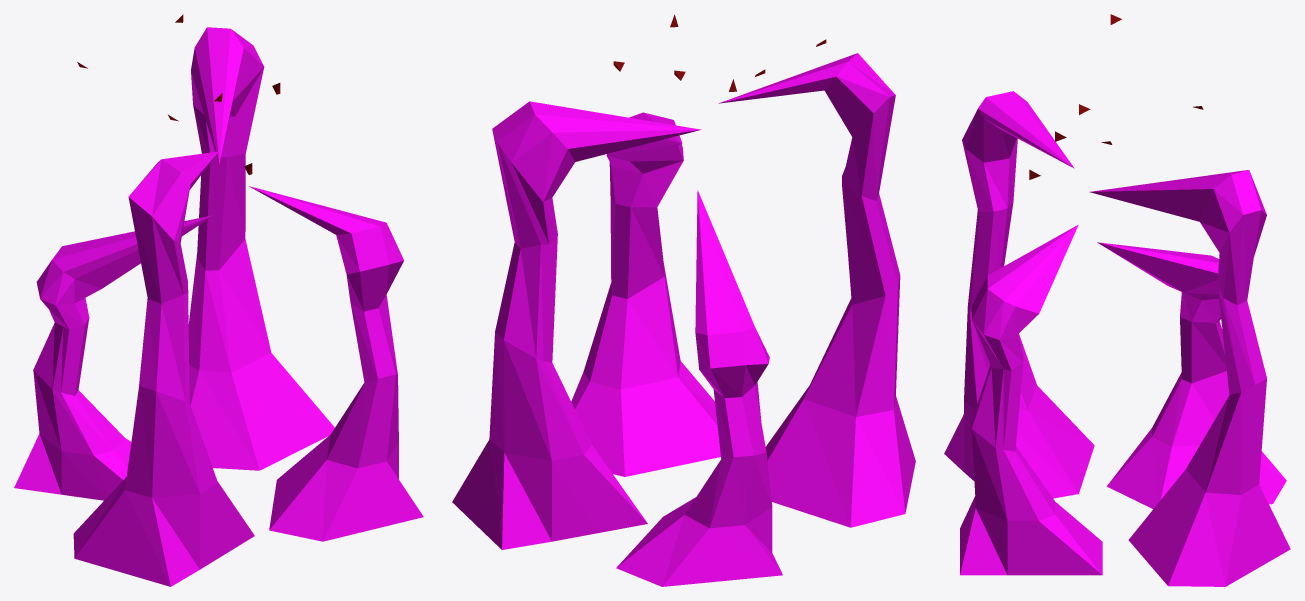
The model's file is clawspell5.obj.
3 renders of one model, left to right at view 1: azimuth 30°, elevation 25°; view 2: azimuth 150°, elevation 25°; view 3: azimuth 270°, elevation 25°, orthographic. The views are drawn at different scales.
Visible parts, largest first — view 1: clawspell5_back; view 2: clawspell5_back; view 3: clawspell5_back.
Part boxes in pixels (bbox=[...]): clawspell5_back: bbox=[14, 14, 423, 586]; clawspell5_back: bbox=[452, 14, 915, 586]; clawspell5_back: bbox=[944, 14, 1290, 586].
Size of the model in its own units: 1.83 by 2.44 by 1.75.
